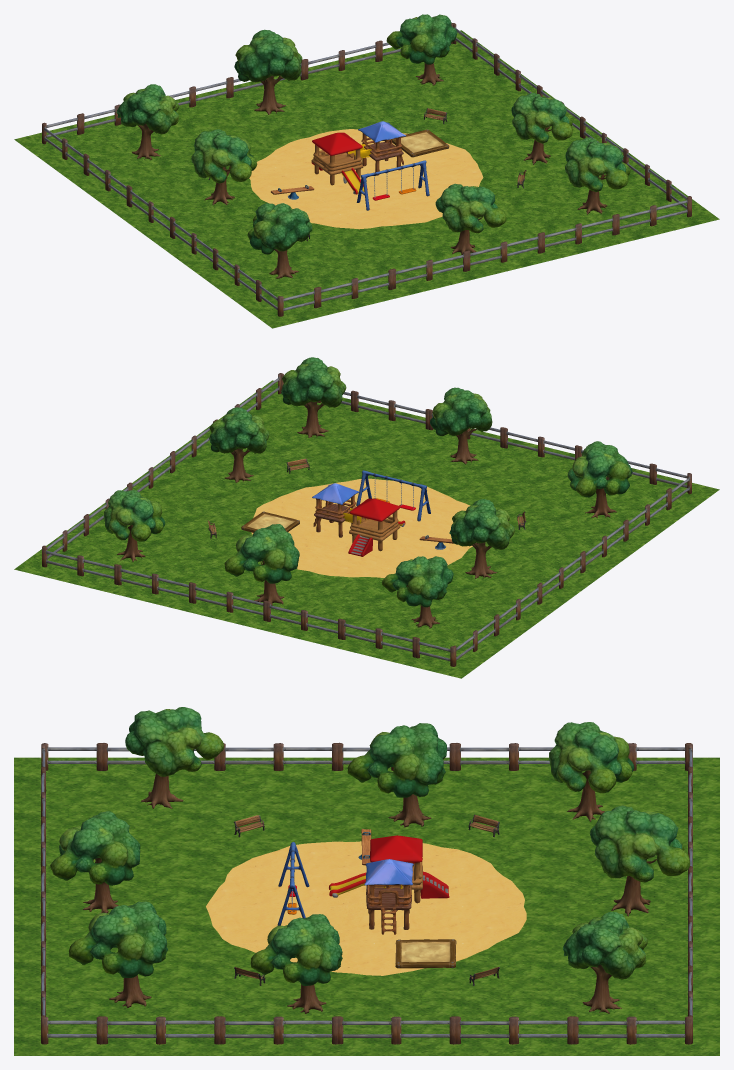
The model's file is park.glb.
3 views of the same model, one above another, from view 1: azimuth 30°, elevation 25°; view 2: azimuth 150°, elevation 25°; view 3: azimuth 270°, elevation 25° (orthographic). The views are drawn at different scales.
Parts seen in each view (by area): view 1: Ground, PlayArea, tree.006, tree.003, tree.004, tree.002, tree.007, tree.001, tree.005, tree, tower_red, tower_blue (+2 smaller); view 2: Ground, PlayArea, tree.006, tree.002, tree.003, tree.004, tree, tree.001, tree.007, tree.005, tower_red, tower_blue (+2 smaller); view 3: Ground, PlayArea, tree.006, tree.003, tree.004, tree.002, tree.007, tree, tree.005, tree.001, tower_blue, sandbox (+19 smaller).
Part boxes in pixels (bbox=[...]): Ground: bbox=[14, 30, 719, 328]; PlayArea: bbox=[249, 129, 483, 229]; tree.006: bbox=[234, 29, 302, 114]; tree.003: bbox=[565, 137, 630, 214]; tree.004: bbox=[191, 129, 257, 204]; tree.002: bbox=[247, 203, 312, 278]; tree.007: bbox=[435, 183, 506, 254]; tree.001: bbox=[386, 14, 457, 85]; tree.005: bbox=[511, 92, 572, 164]; tree: bbox=[116, 84, 178, 159]; tower_red: bbox=[311, 132, 363, 185]; tower_blue: bbox=[358, 121, 405, 175]; Ground: bbox=[14, 380, 719, 678]; PlayArea: bbox=[251, 478, 472, 577]; tree.006: bbox=[224, 524, 299, 605]; tree.002: bbox=[567, 441, 632, 517]; tree.003: bbox=[281, 357, 346, 437]; tree.004: bbox=[449, 499, 514, 578]; tree: bbox=[382, 556, 453, 628]; tree.001: bbox=[103, 490, 165, 561]; tree.007: bbox=[430, 387, 492, 464]; tree.005: bbox=[209, 407, 269, 482]; tower_red: bbox=[349, 498, 400, 551]; tower_blue: bbox=[312, 483, 359, 537]; Ground: bbox=[14, 757, 719, 1055]; PlayArea: bbox=[206, 841, 526, 975]; tree.006: bbox=[590, 805, 690, 916]; tree.003: bbox=[69, 901, 167, 1007]; tree.004: bbox=[347, 723, 447, 827]; tree.002: bbox=[125, 707, 223, 808]; tree.007: bbox=[50, 811, 140, 913]; tree: bbox=[549, 722, 634, 821]; tree.005: bbox=[250, 914, 342, 1013]; tree.001: bbox=[563, 911, 647, 1013]; tower_blue: bbox=[364, 859, 413, 934]; sandbox: bbox=[395, 939, 456, 968].
Size of the model in its own units: 48 by 7.34 by 48.
14 materials, 13 textured.
